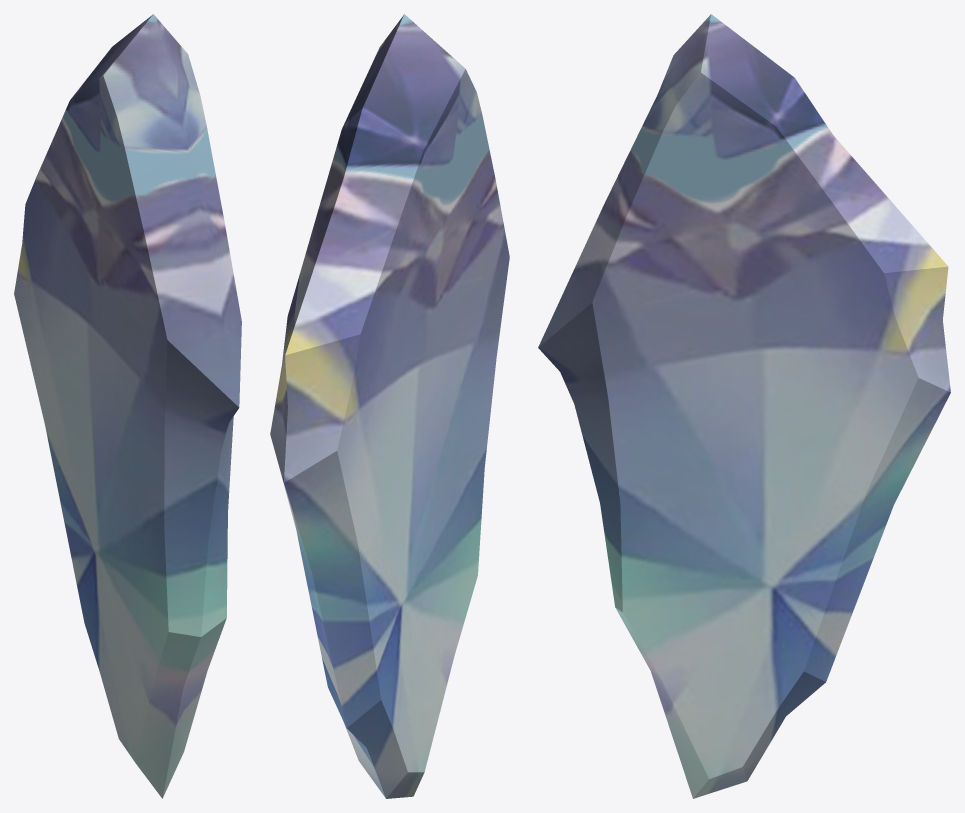
Rendered from Skill 2 Mirror 2.glb.
3 renders of one model, left to right at view 1: azimuth 30°, elevation 25°; view 2: azimuth 150°, elevation 25°; view 3: azimuth 270°, elevation 25°, orthographic.
Parts seen in each view (by area): view 1: cyrene_00_skill02_mirror02_LOD0; view 2: cyrene_00_skill02_mirror02_LOD0; view 3: cyrene_00_skill02_mirror02_LOD0.
Boxes of the visible parts, <box> form: cyrene_00_skill02_mirror02_LOD0: <box>14,14,241,798</box>; cyrene_00_skill02_mirror02_LOD0: <box>270,14,509,798</box>; cyrene_00_skill02_mirror02_LOD0: <box>538,14,950,798</box>.
Bounding box in the file's own units: 0.1652 × 1.45 × 0.6909.
1 material, 1 textured.
